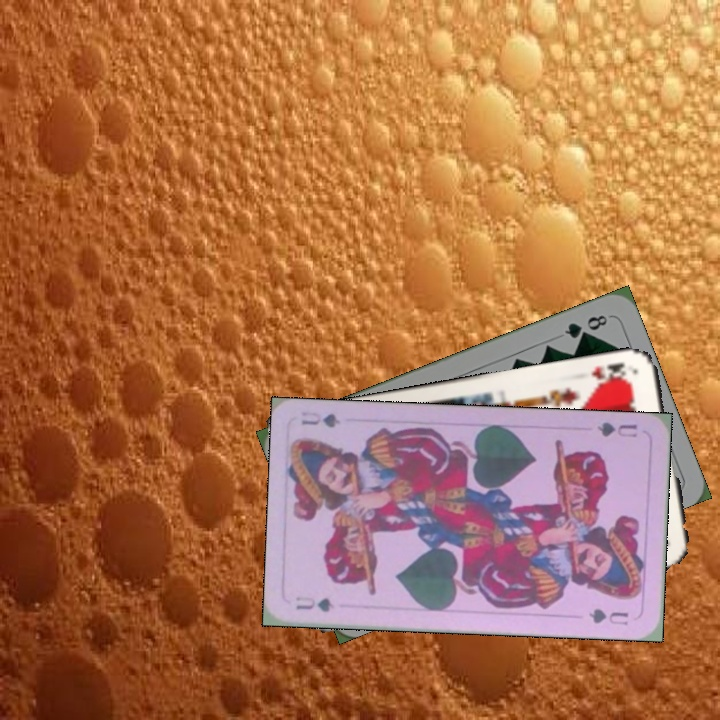G8: (560, 310, 610, 341)
GU: (291, 592, 337, 615), (593, 418, 640, 440)
HK: (587, 359, 630, 388)
